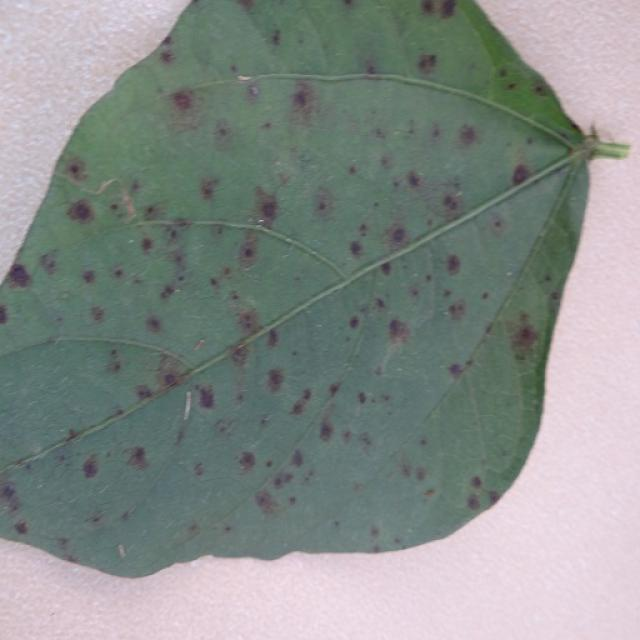Anthracnose: (233, 182, 287, 278), (241, 178, 290, 231), (378, 313, 413, 376), (164, 88, 205, 137), (505, 314, 540, 364), (286, 80, 320, 130), (153, 353, 190, 394), (254, 361, 289, 403), (237, 230, 263, 270), (311, 185, 337, 220), (65, 198, 96, 225), (5, 261, 32, 290), (235, 307, 261, 337), (0, 483, 23, 515), (384, 221, 409, 249), (288, 387, 312, 416), (254, 489, 280, 515), (125, 445, 149, 471), (142, 201, 168, 225), (212, 120, 233, 148), (104, 346, 124, 375), (65, 158, 88, 182), (199, 176, 221, 201), (230, 343, 251, 369), (387, 318, 409, 342), (456, 123, 478, 147), (170, 90, 194, 112), (511, 162, 532, 187), (39, 251, 59, 276), (197, 384, 215, 410), (416, 53, 438, 74), (81, 455, 100, 479), (447, 299, 467, 321), (214, 418, 236, 437), (488, 212, 506, 235), (144, 314, 164, 334), (237, 451, 256, 472), (445, 253, 462, 276), (442, 194, 460, 214), (273, 471, 293, 489), (318, 421, 334, 442), (135, 385, 154, 402), (234, 0, 256, 14), (89, 305, 106, 323), (439, 0, 457, 17), (265, 328, 280, 348), (289, 448, 304, 468), (399, 459, 414, 479), (159, 284, 176, 301), (158, 48, 175, 65), (447, 362, 464, 378), (406, 171, 421, 188), (466, 494, 481, 511), (327, 381, 342, 398), (379, 154, 394, 171), (81, 269, 97, 284), (349, 240, 363, 257), (14, 520, 29, 535), (140, 237, 154, 253), (379, 261, 393, 277), (487, 490, 501, 505), (66, 428, 82, 441), (270, 29, 282, 46), (247, 83, 260, 98), (415, 466, 427, 482), (186, 524, 199, 538), (193, 462, 205, 477), (0, 305, 9, 325), (470, 475, 483, 488), (348, 315, 360, 329), (364, 63, 378, 75), (534, 84, 548, 96), (160, 35, 172, 47), (221, 266, 232, 279), (549, 291, 560, 303), (357, 391, 367, 404), (370, 525, 380, 538), (423, 488, 436, 498), (113, 268, 124, 279), (348, 165, 358, 175), (498, 68, 508, 78), (506, 82, 516, 90), (481, 292, 490, 300), (224, 525, 232, 533)
Blackgram: (0, 0, 626, 575)
